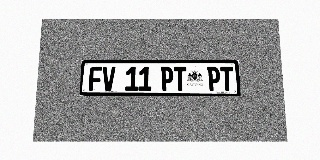1: (125, 67, 138, 91), (138, 67, 151, 91)
F: (89, 67, 102, 91)
P: (160, 67, 173, 91), (207, 67, 220, 91)
T: (220, 67, 234, 91), (174, 67, 187, 91)
V: (102, 67, 115, 91)
